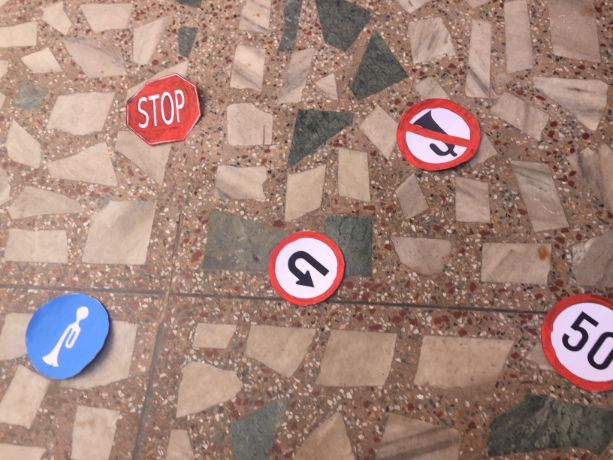blow-horn: (27, 294, 108, 369)
no-horn: (398, 96, 480, 167)
speed-50: (542, 296, 613, 391)
stop: (126, 73, 202, 144)
u-turn: (268, 231, 344, 303)
